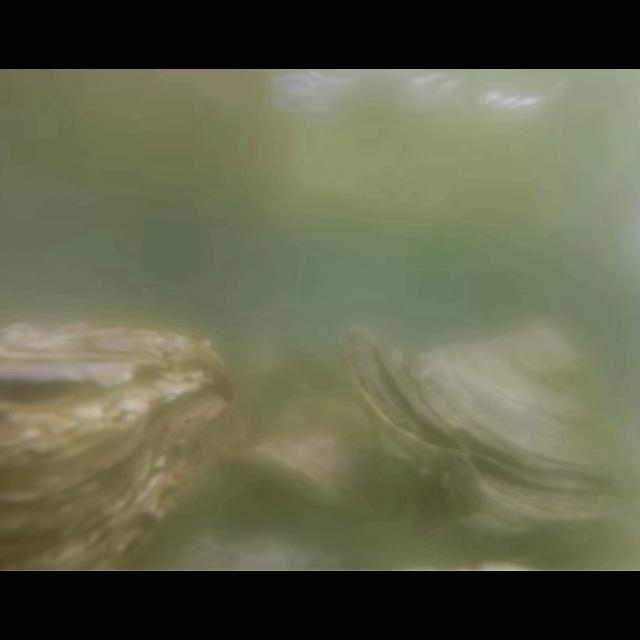Oyster-Closed: (338, 318, 634, 544), (2, 320, 246, 562), (237, 396, 381, 509)
